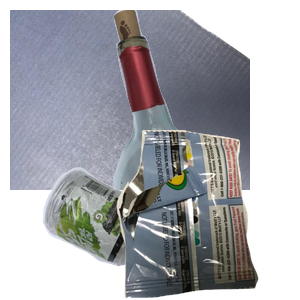cardboard: (10, 10, 250, 190)
glass: (89, 10, 300, 190)
plastic: (40, 165, 235, 300)
trash: (114, 130, 300, 300)
